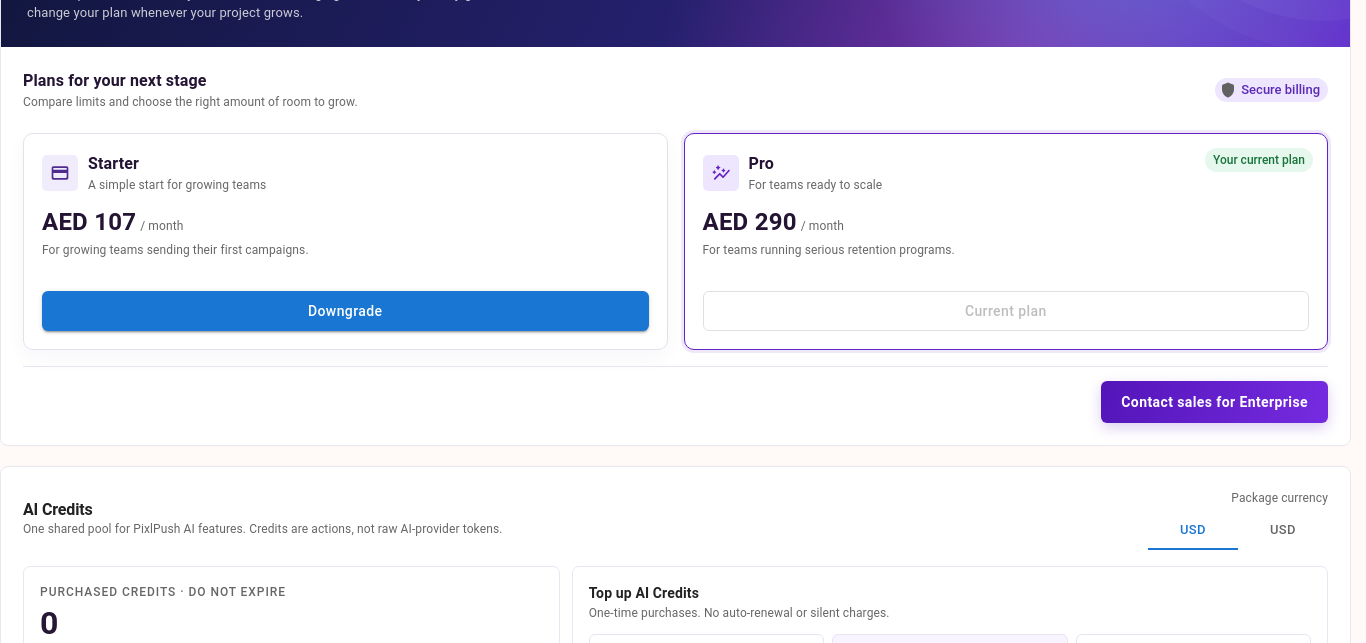
Test case: BillingSection › changes plan on the existing subscription after a confirmation, never through a new checkout
The image size is (1366, 643).
(page scrolled)
Expected: the button "Current plan" is disabled, x1=702 y1=291 x2=1309 y2=331
Click the button "Downgrade".
click(345, 311)  # box x1=42 y1=291 x2=648 y2=331
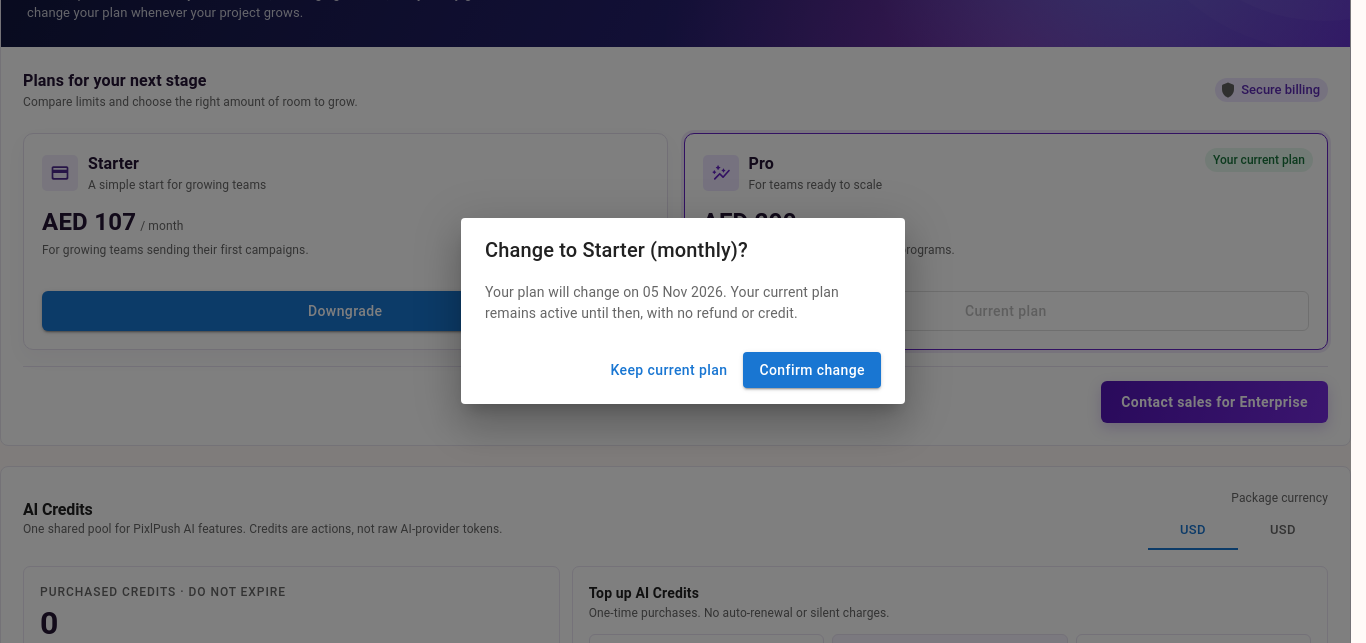
Expected: the text "Your plan will change on 05 Nov 2026. Your current plan remains active until then" is shown, x1=485 y1=284 x2=839 y2=321
Click the button "Confirm change".
click(812, 370)  # box x1=743 y1=352 x2=881 y2=388
(page scrolled)
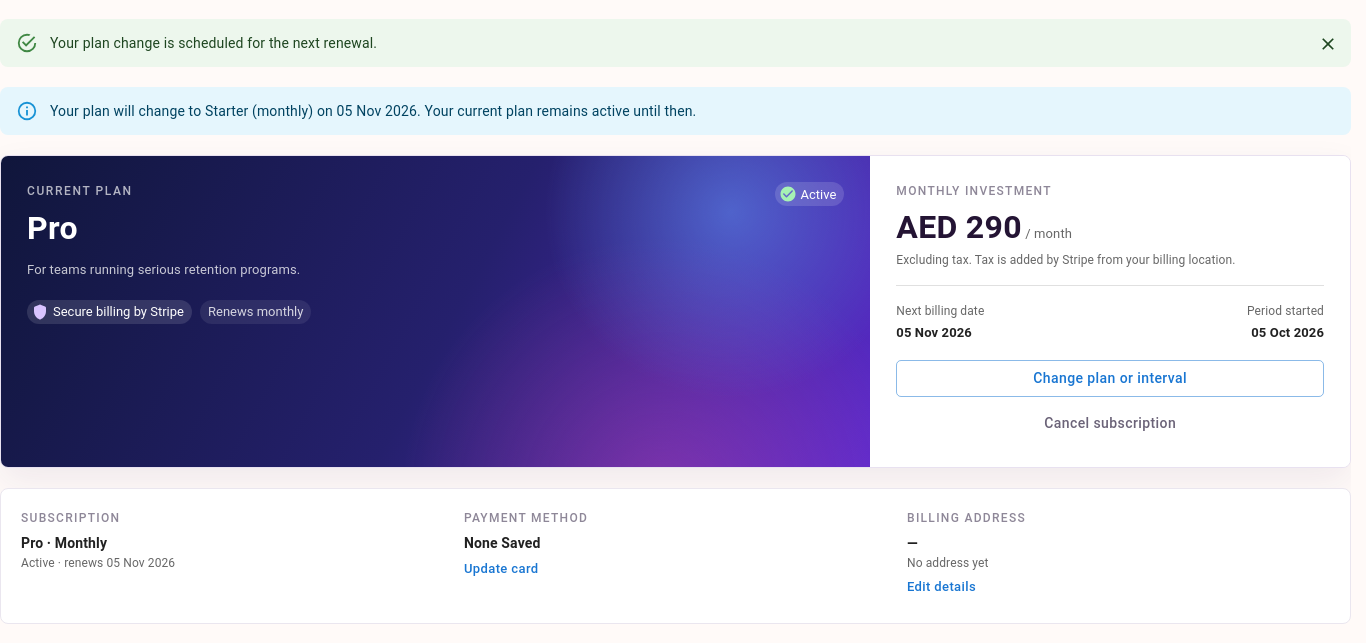
Expected: the text "Your plan will change to Starter (monthly) on 05 Nov 2026" is shown, x1=50 y1=103 x2=696 y2=119
